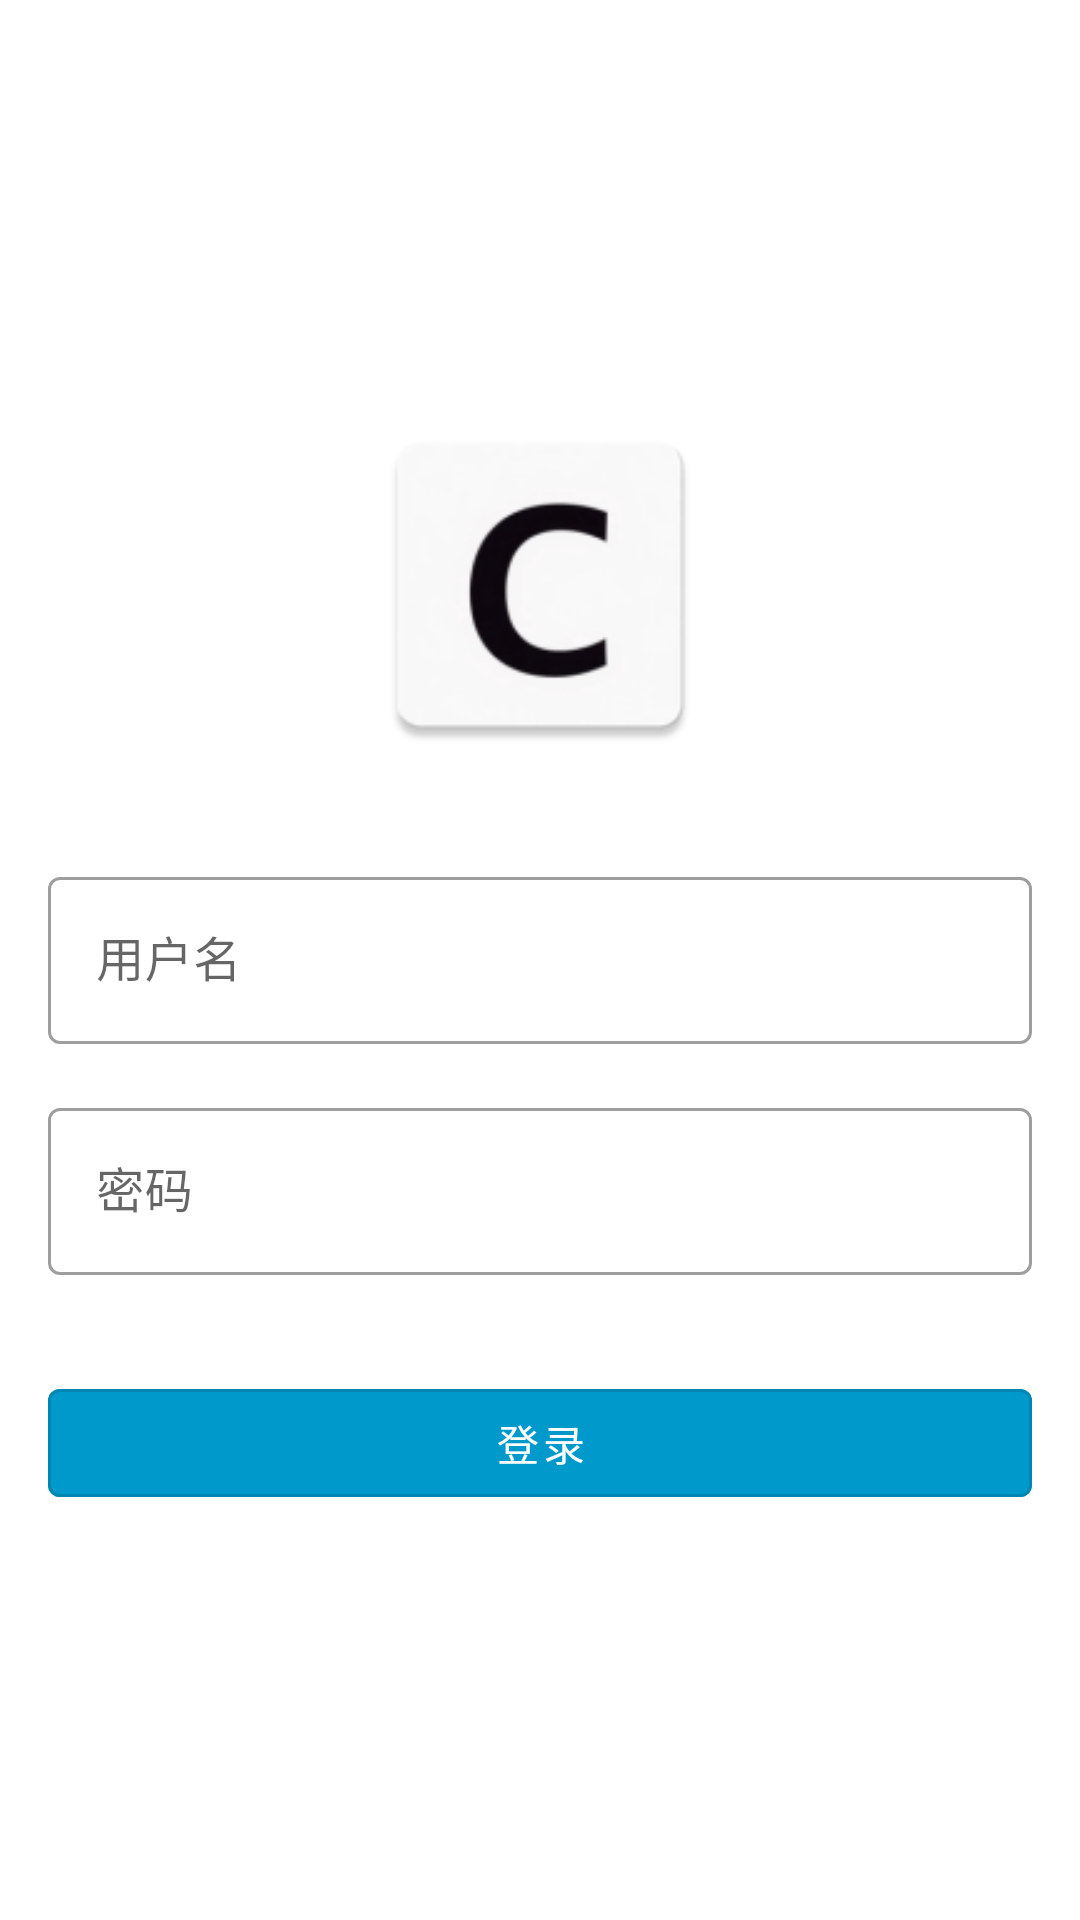

Icons on this 1080 x 1920 Android screen, each with its box as bbox=(x1, y1, x2, y2):
cstore: bbox=(397, 457, 685, 737)
